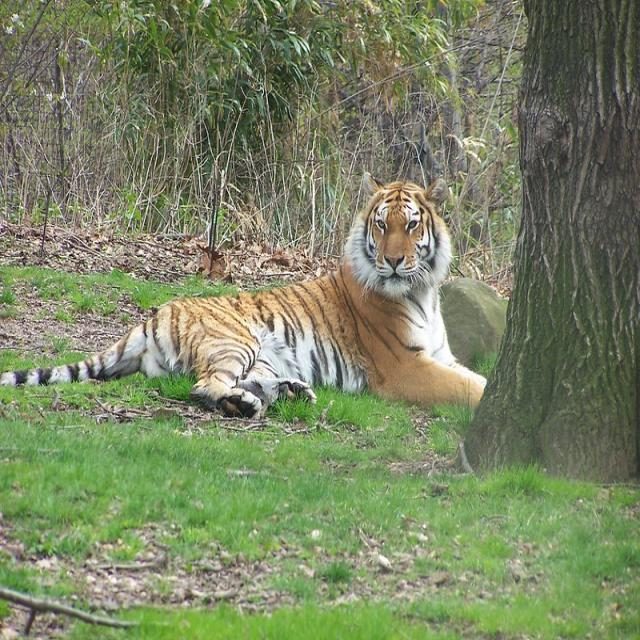Tiger: (51, 173, 483, 433)
